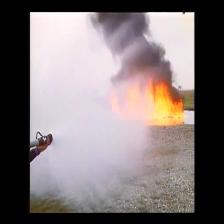fire: (139, 82, 186, 128)
smoke: (108, 14, 149, 64)
